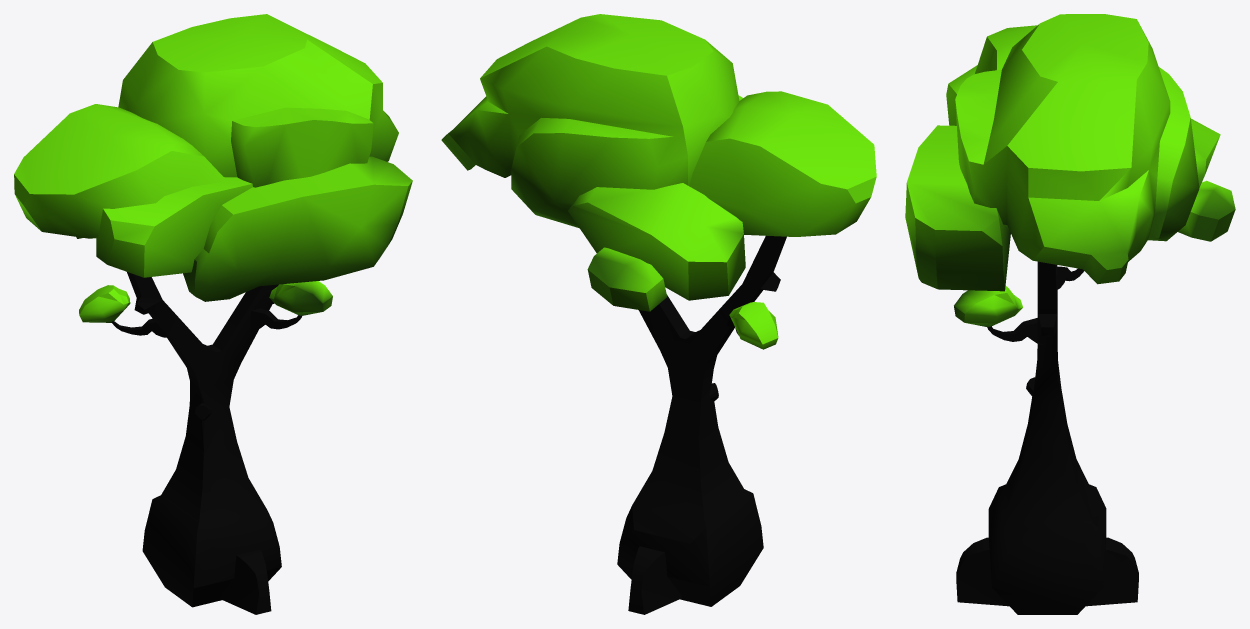
Rendered from FOL_Foliage_02.FBX.
The picture shows the model from 3 angles, left to right: view 1: azimuth 30°, elevation 25°; view 2: azimuth 150°, elevation 25°; view 3: azimuth 270°, elevation 25°; orthographic projection. The views are drawn at different scales.
Parts seen in each view (by area): view 1: FOL_Foliage_02; view 2: FOL_Foliage_02; view 3: FOL_Foliage_02.
Part boxes in pixels (x1,y1,x2,y2): FOL_Foliage_02: [14, 14, 412, 614]; FOL_Foliage_02: [441, 14, 876, 614]; FOL_Foliage_02: [905, 14, 1235, 614].
Bounding box in the file's own units: 0.0875 × 0.1681 × 0.1287.
